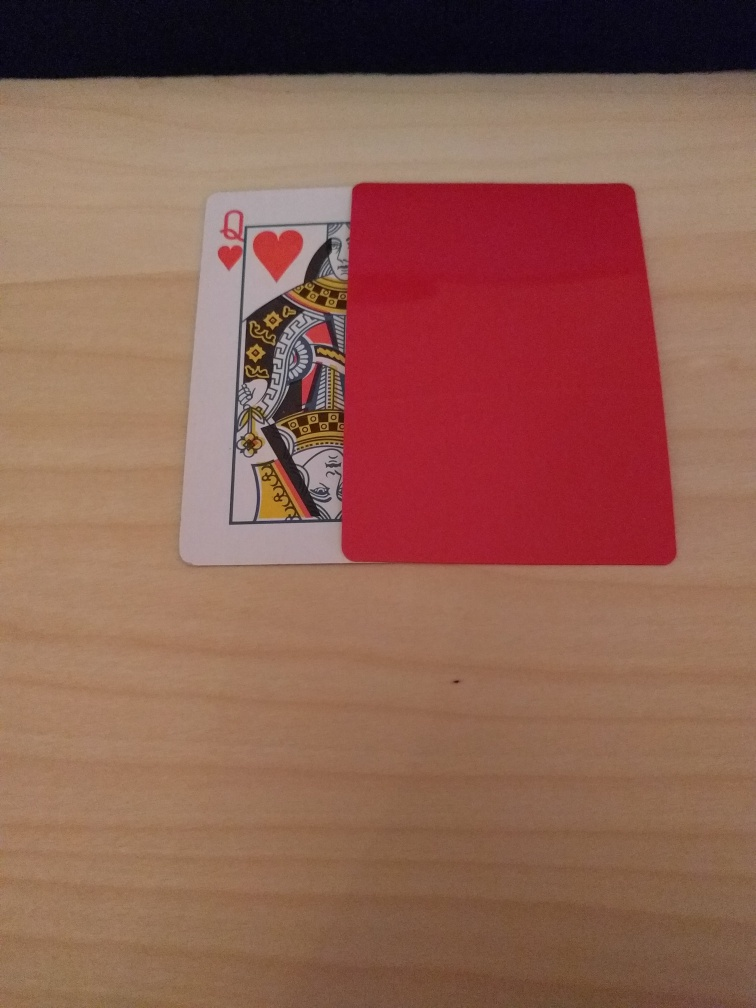queen: (178, 186, 353, 566)
